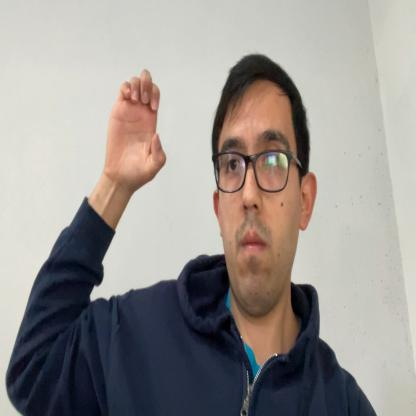E: (105, 68, 168, 190)
